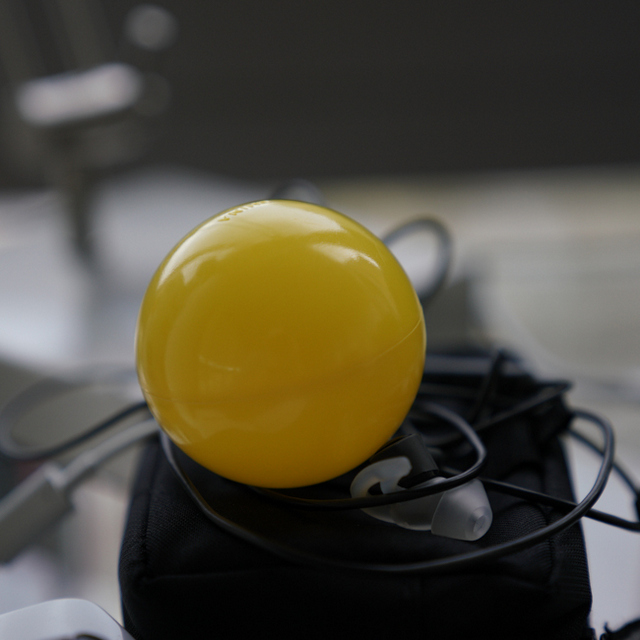Ball: (134, 202, 424, 483)
